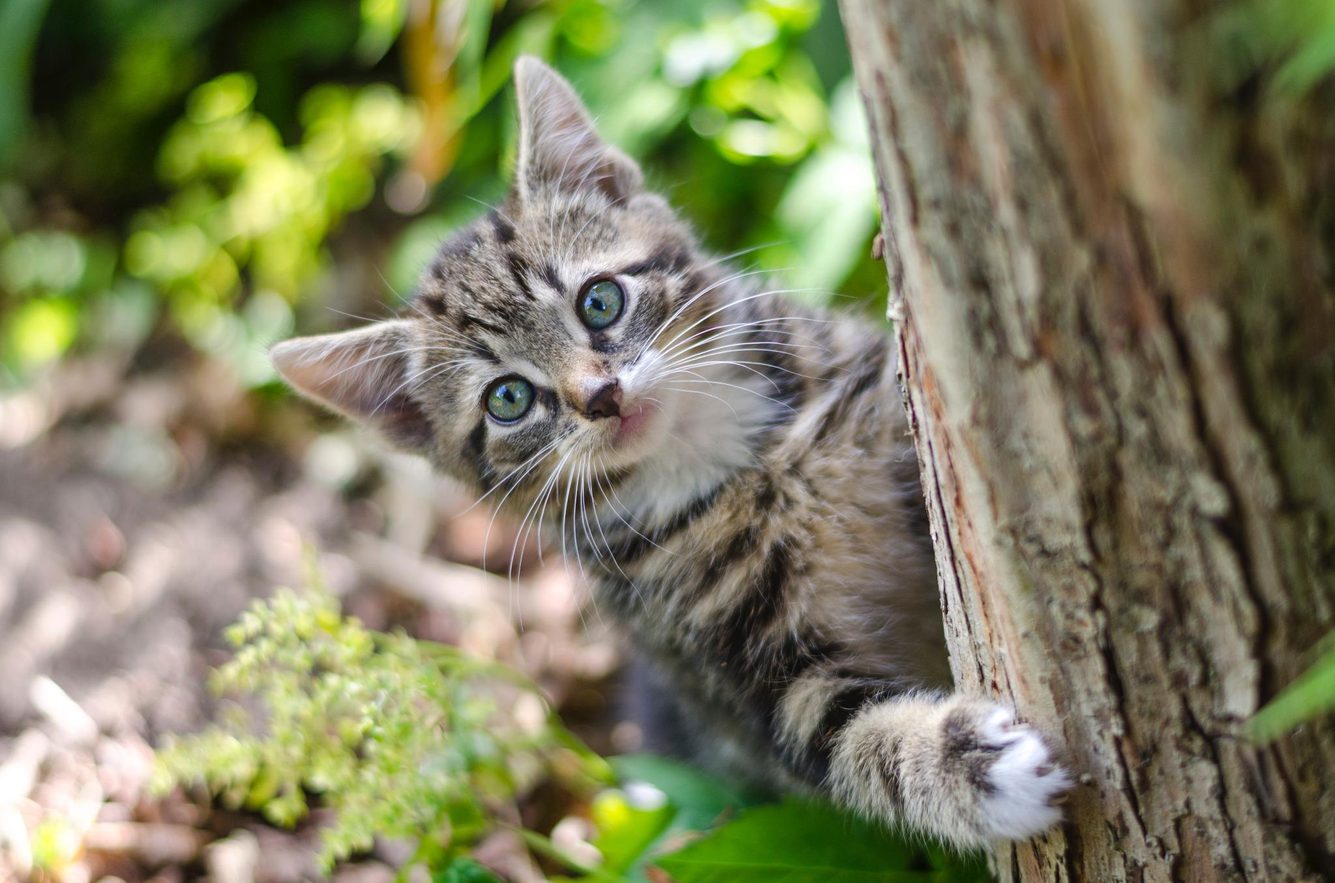cat: (266, 53, 1077, 860)
